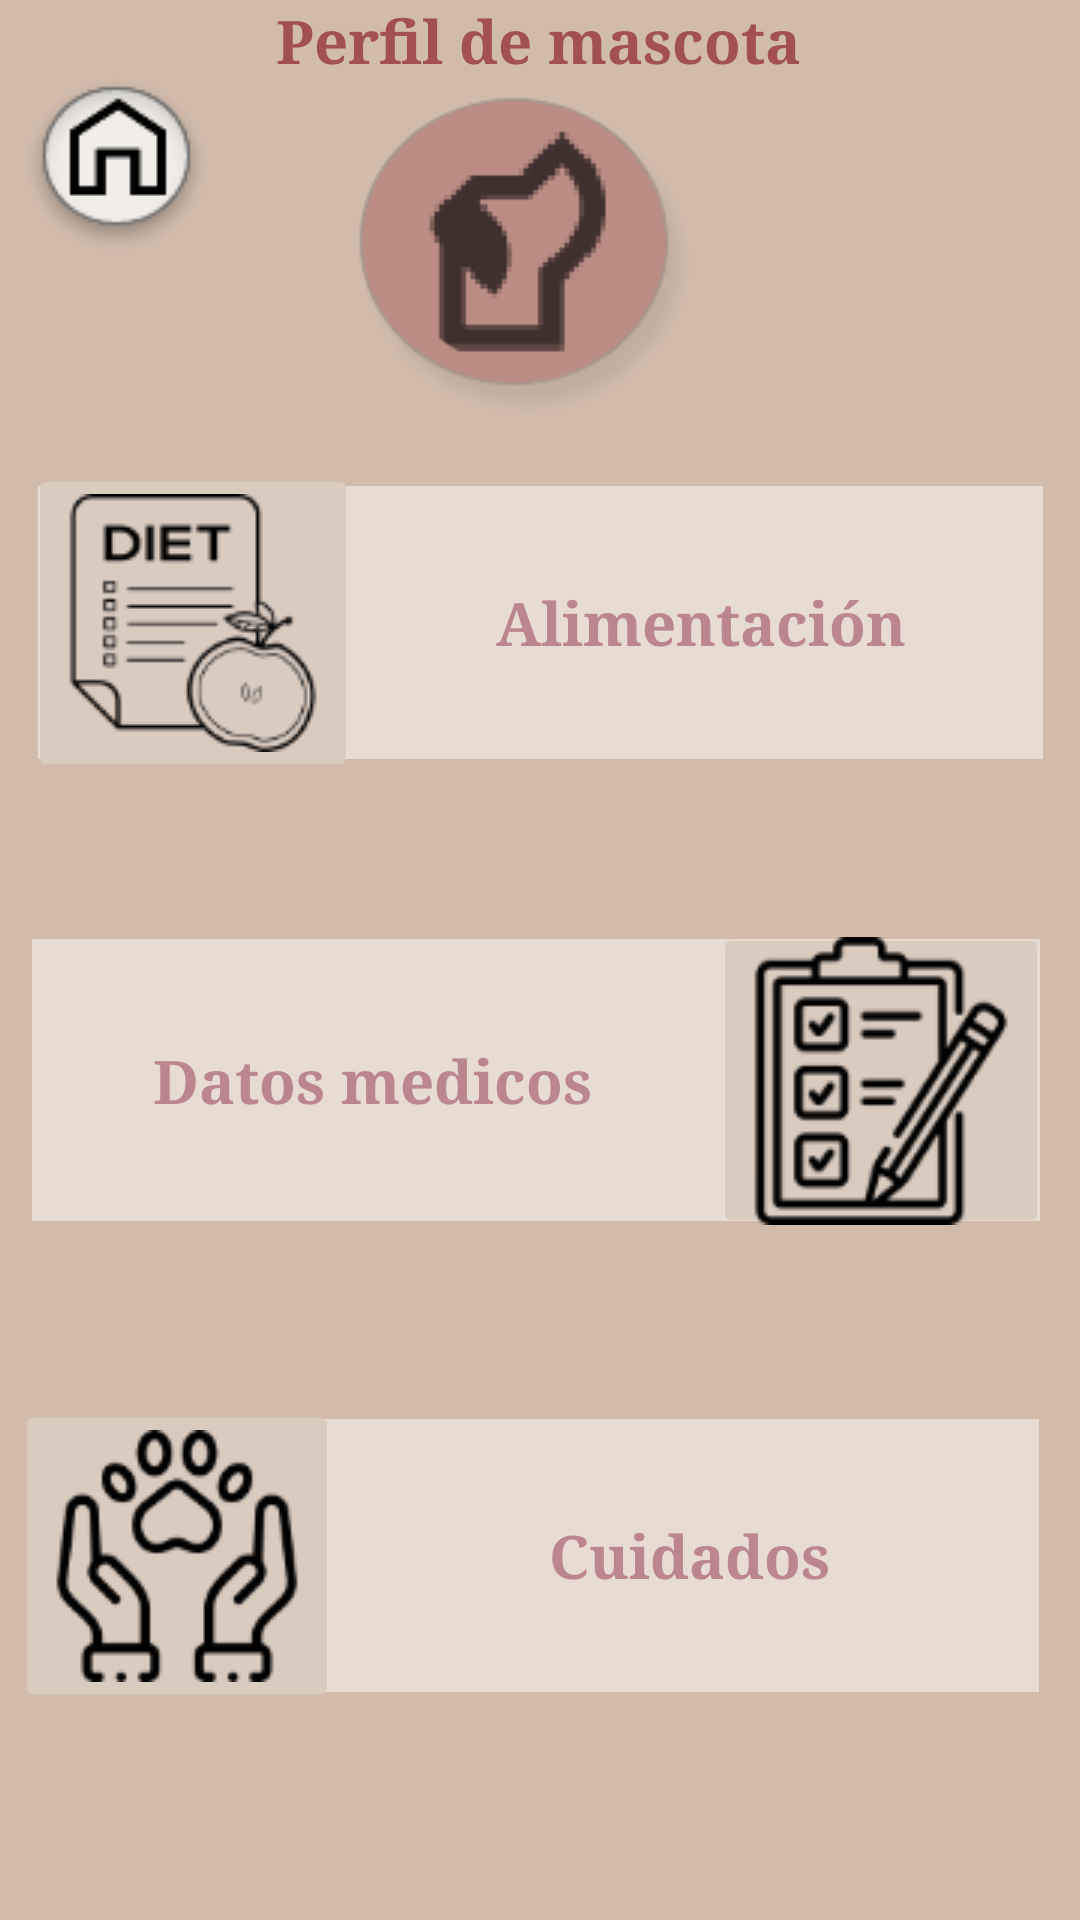

Named icons in this screenshot (1080 x 1920) and their bounding boxes, (x1=x1, y1=y1, x2=x2, y2=y2):
home: (x1=41, y1=86, x2=192, y2=236)
